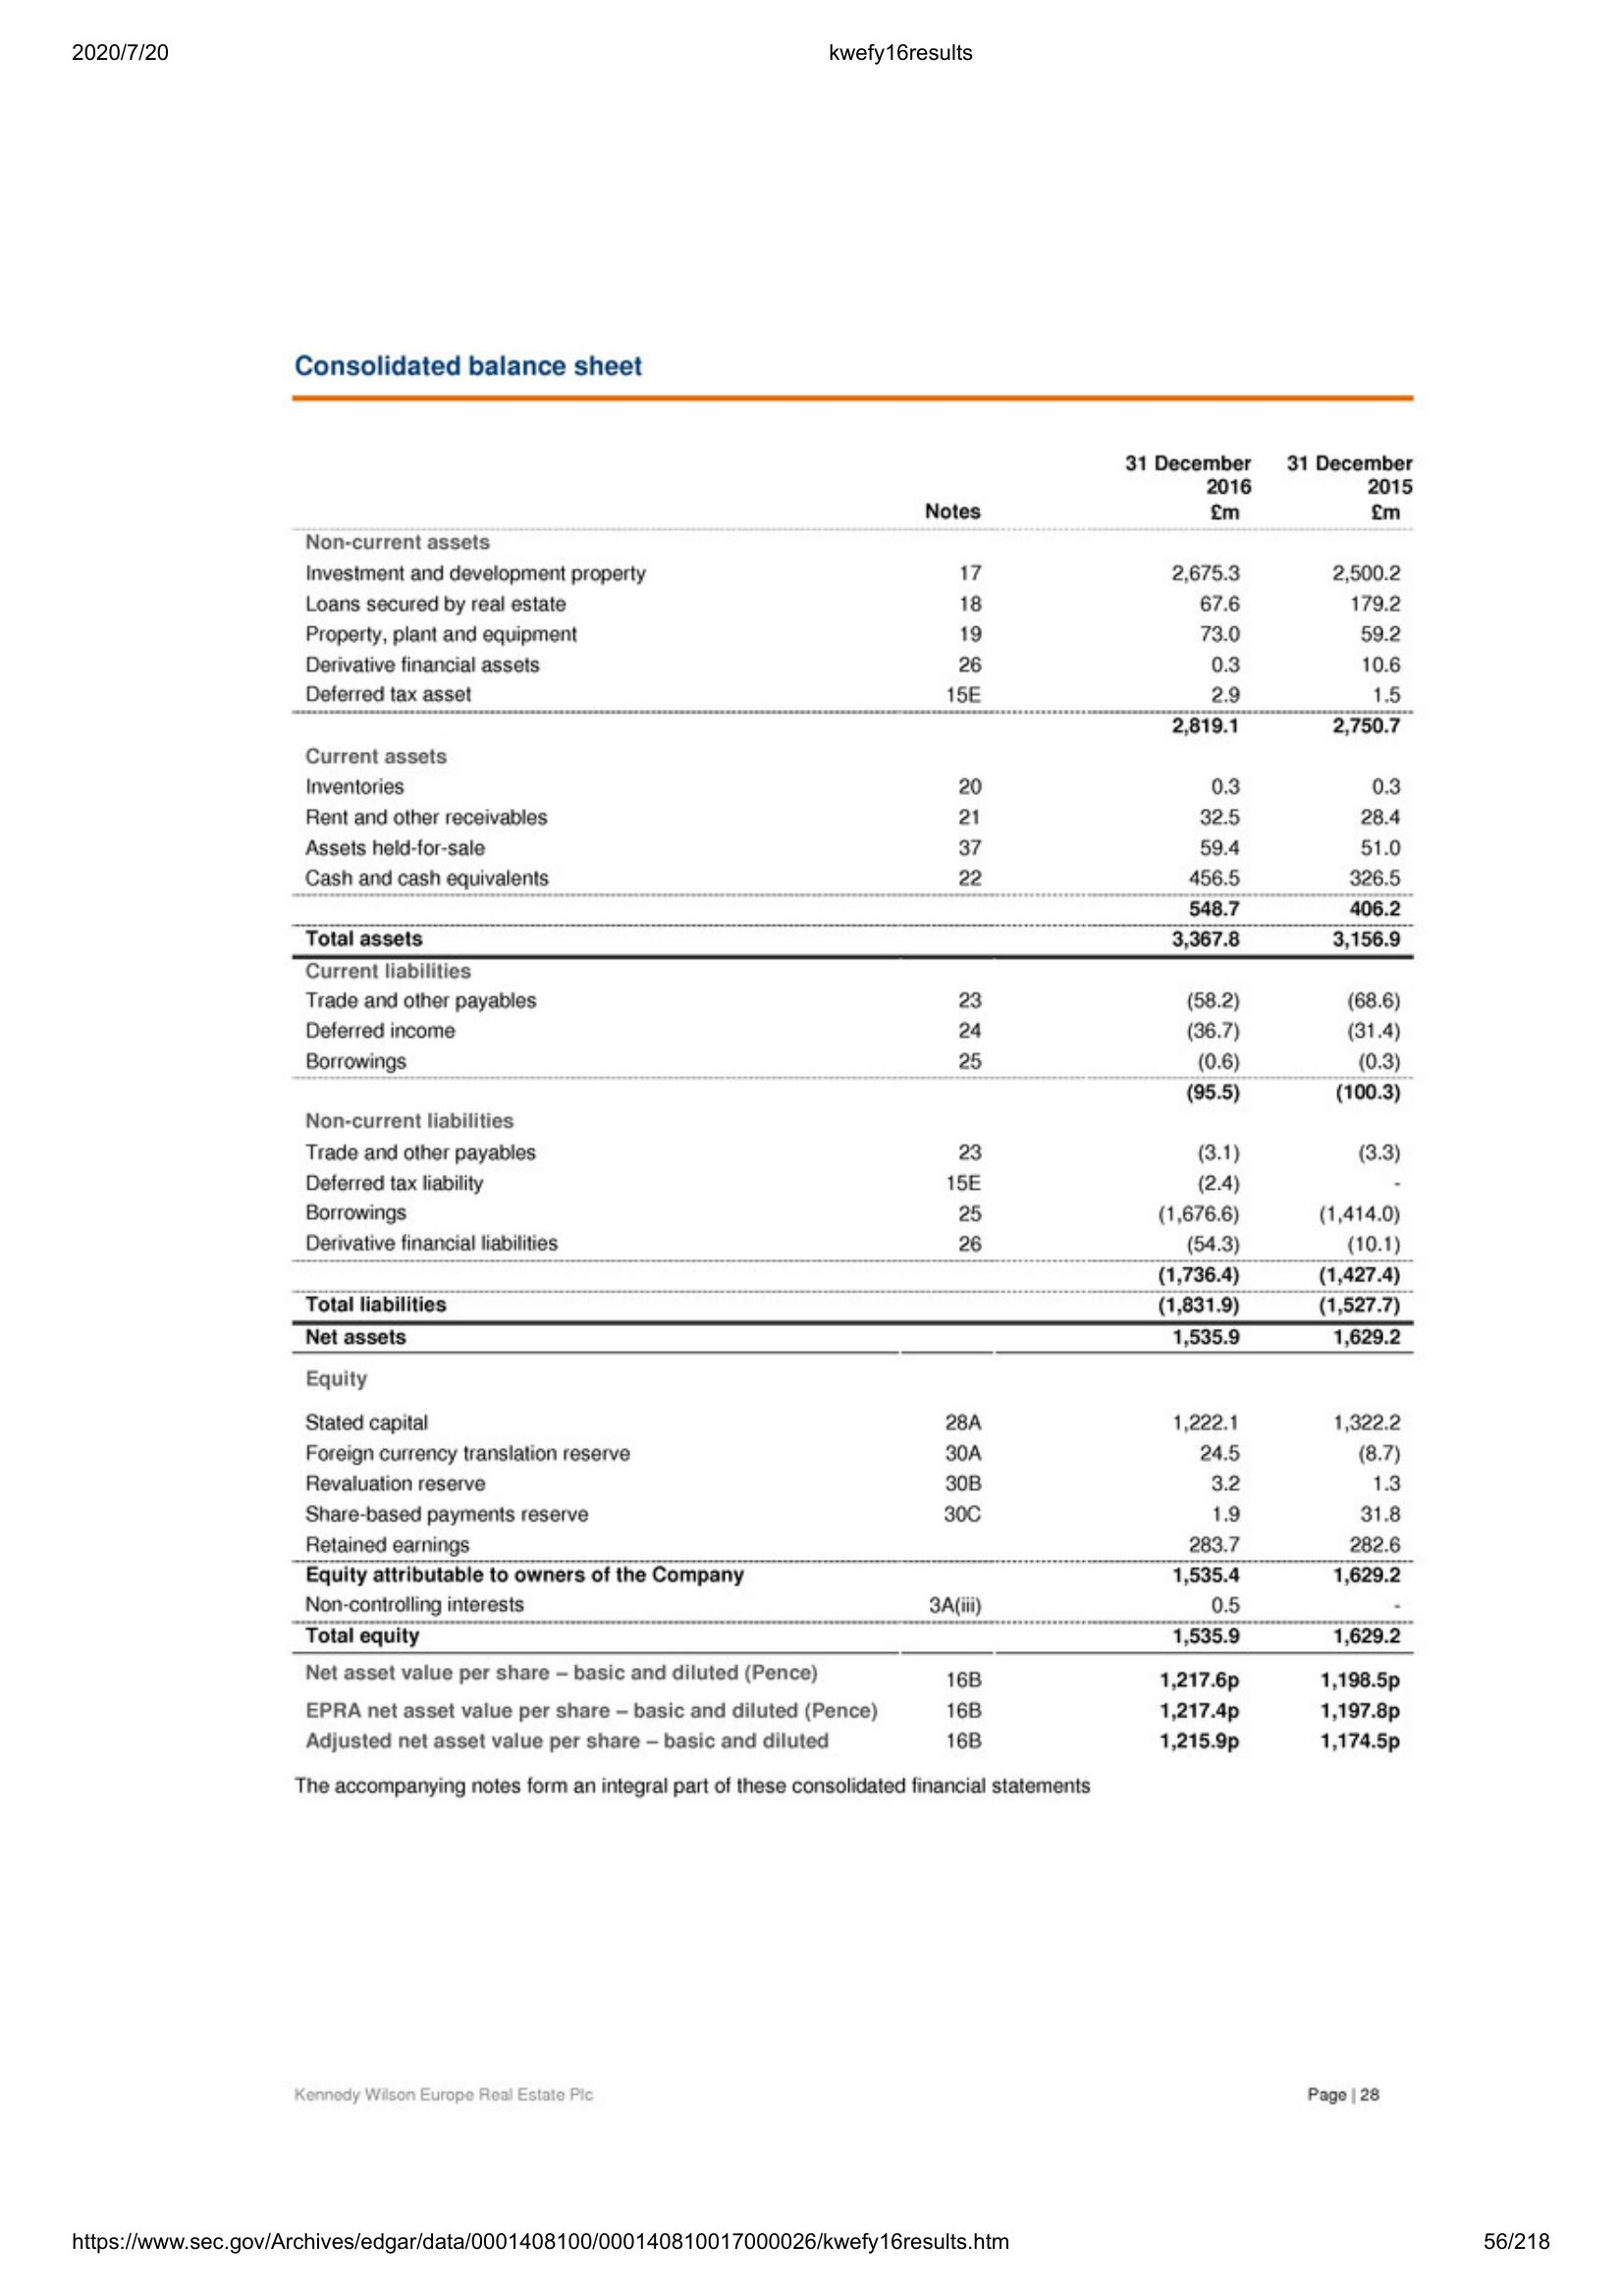table: (288, 388, 1405, 1762)
